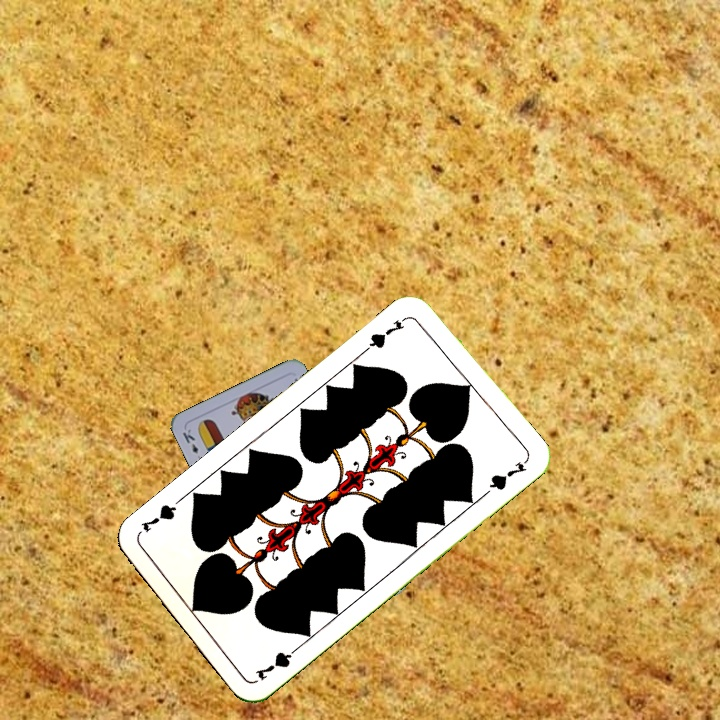EK: (178, 425, 205, 464)
G7: (251, 641, 304, 683), (361, 312, 411, 354)
